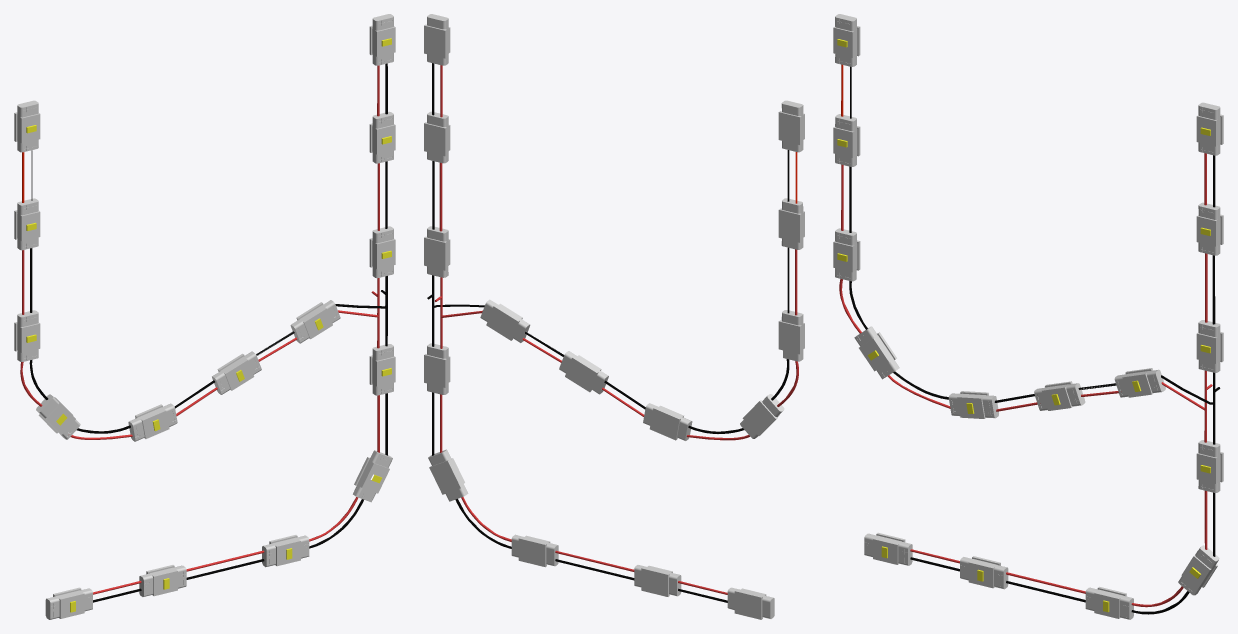
File: fixed.glb
3 views of the same model, side by side, from view 1: azimuth 30°, elevation 25°; view 2: azimuth 150°, elevation 25°; view 3: azimuth 330°, elevation 25° (orthographic). The views are drawn at different scales.
Parts seen in each view (by area): view 1: fixed; view 2: fixed; view 3: fixed.
Boxes of the visible parts, x1=… form: fixed: x1=14, y1=14, x2=395, y2=619; fixed: x1=424, y1=14, x2=804, y2=619; fixed: x1=833, y1=14, x2=1223, y2=619.
Bounding box in the file's own units: 35.25 × 46.62 × 1.67.
